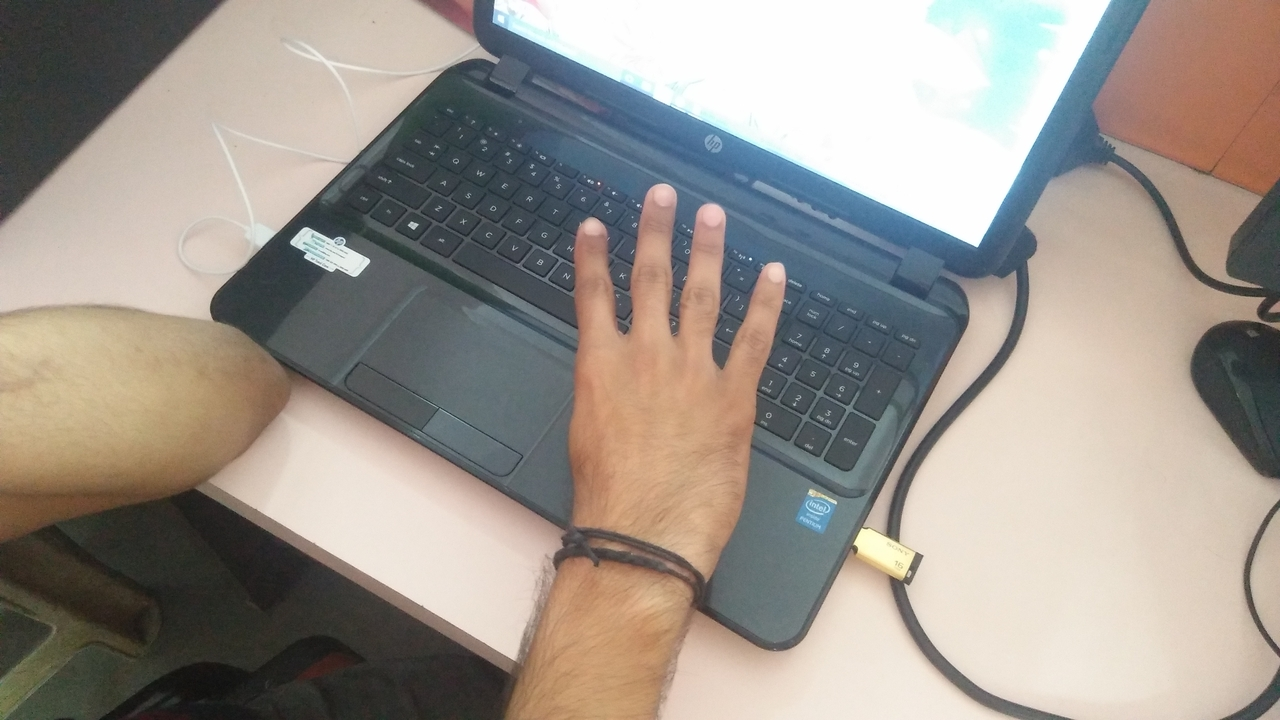fingertip: (744, 248, 800, 302), (630, 170, 686, 220), (564, 206, 616, 252), (684, 199, 740, 239)
